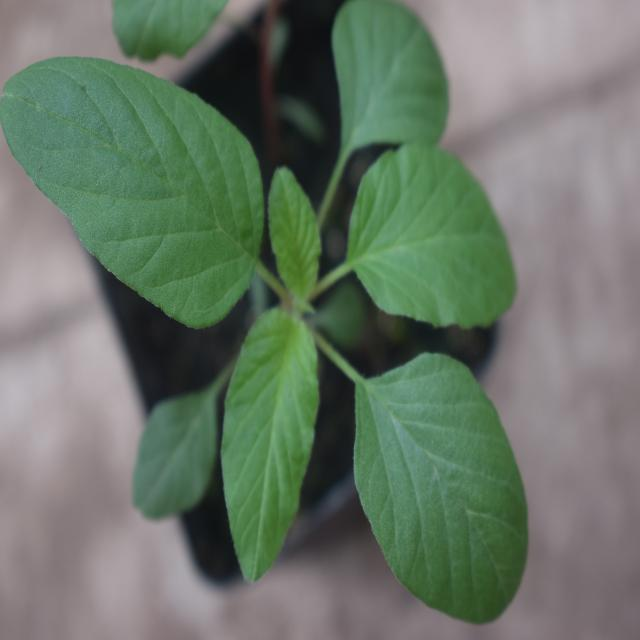pigweed: (0, 6, 524, 586)
